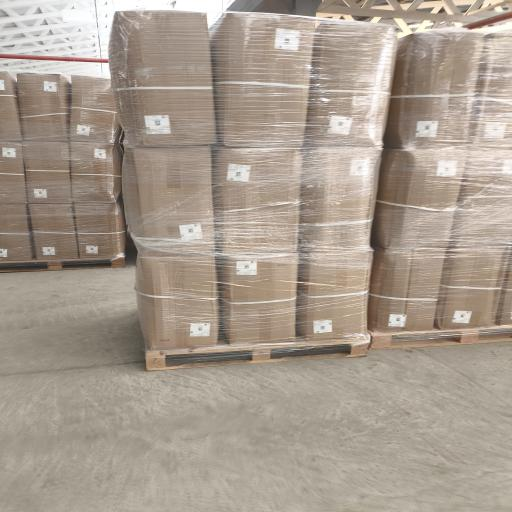pallet: (146, 341, 369, 370), (370, 326, 511, 349), (0, 258, 124, 272)
